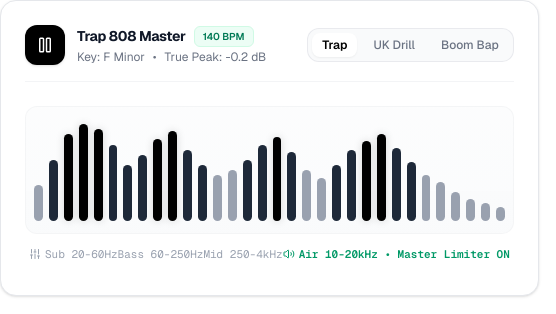
Scenario: AudioWaveform and MiniAudioEqualizer components › AudioWaveform Visualizer › switches preset details when genre chip is clicked
Step 1. Click the tab "UK Drill" → coordinates (394, 45), box [364, 33, 425, 57]
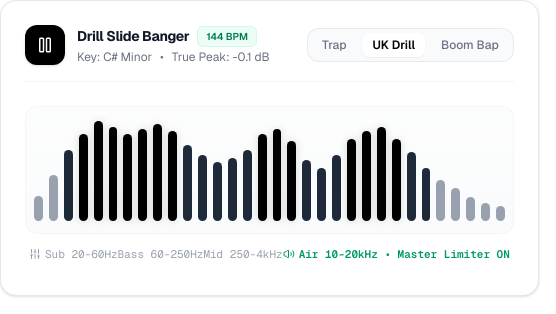
Check: the text "Drill Slide Banger" is shown, box [77, 26, 189, 46]
Check: the text "144 BPM" is shown, box [197, 26, 257, 46]
Check: the text "Key: C# Minor" is shown, box [77, 48, 152, 64]
Step 2. Click the tab "Boom Bap" → coordinates (470, 45), box [431, 33, 509, 57]
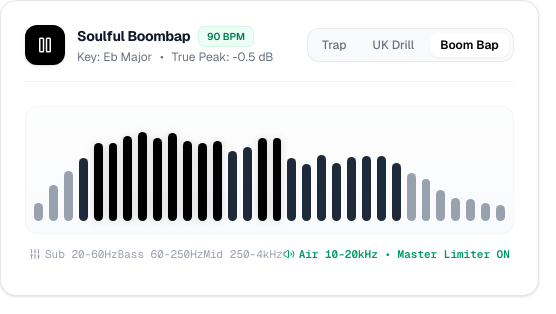
Check: the text "Soulful Boombap" is shown, box [77, 26, 190, 46]
Check: the text "90 BPM" is shown, box [198, 26, 254, 46]
Check: the text "Key: Eb Major" is shown, box [77, 48, 152, 64]
